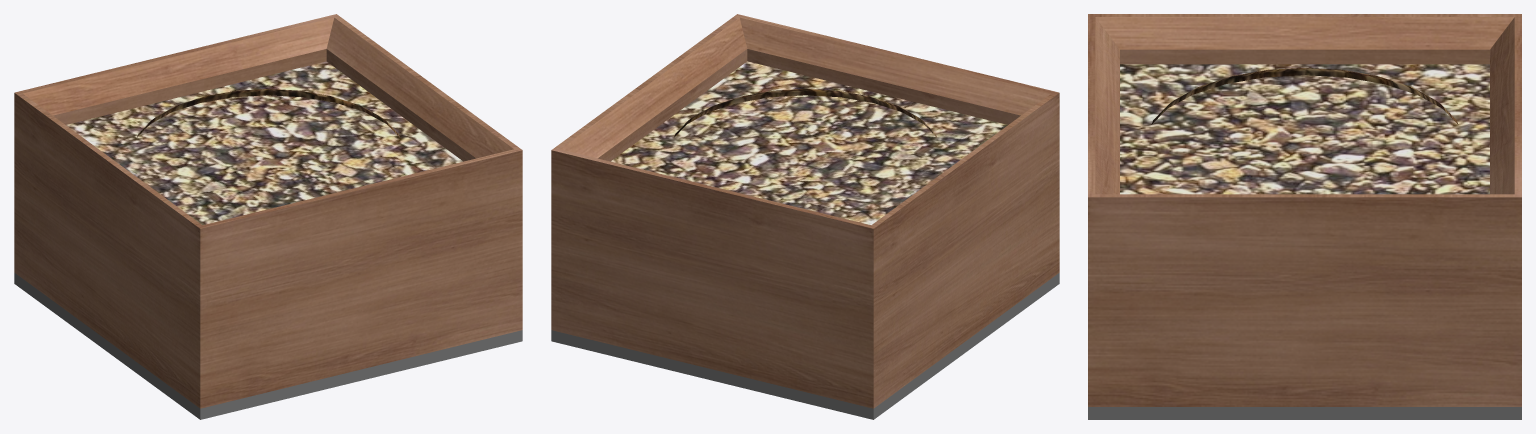
Rendered from pot-with-mud.glb.
3 renders of one model, left to right at view 1: azimuth 30°, elevation 25°; view 2: azimuth 150°, elevation 25°; view 3: azimuth 270°, elevation 25°, orthographic. The views are drawn at different scales.
Visible parts, largest first — view 1: pot_body, soil, pot_rim, mud_mound; view 2: pot_body, soil, pot_rim, mud_mound; view 3: pot_body, soil, pot_rim, mud_mound.
Boxes of the visible parts, x1,y1,x2,y2 form: pot_body: (14,14,522,408); soil: (66,61,462,224); pot_rim: (14,273,522,419); mud_mound: (137,89,399,137); pot_body: (551,14,1059,408); soil: (611,61,1007,224); pot_rim: (551,273,1059,419); mud_mound: (674,89,936,137); pot_body: (1088,14,1521,406); soil: (1120,64,1489,194); pot_rim: (1088,407,1521,419); mud_mound: (1151,67,1458,124).
Bounding box in the file's own units: 0.3 × 0.17 × 0.3.
Materials: 4 (3 with a texture image).
